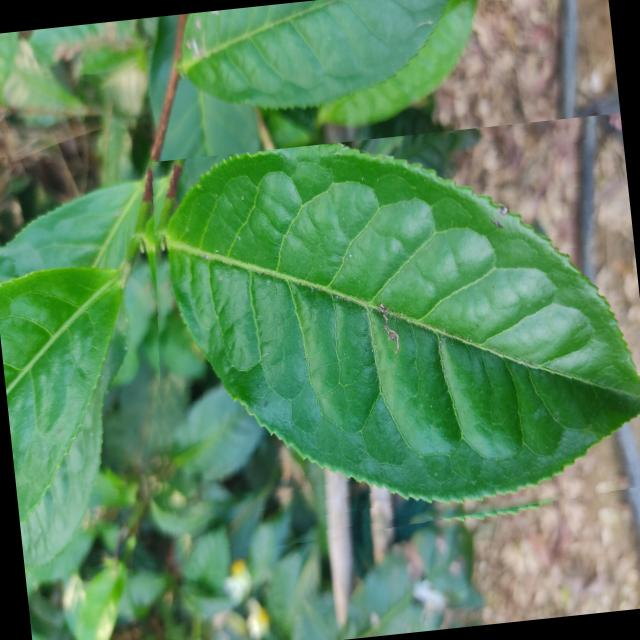Category D(7+ days, Not for Tea): (124, 111, 640, 563)
